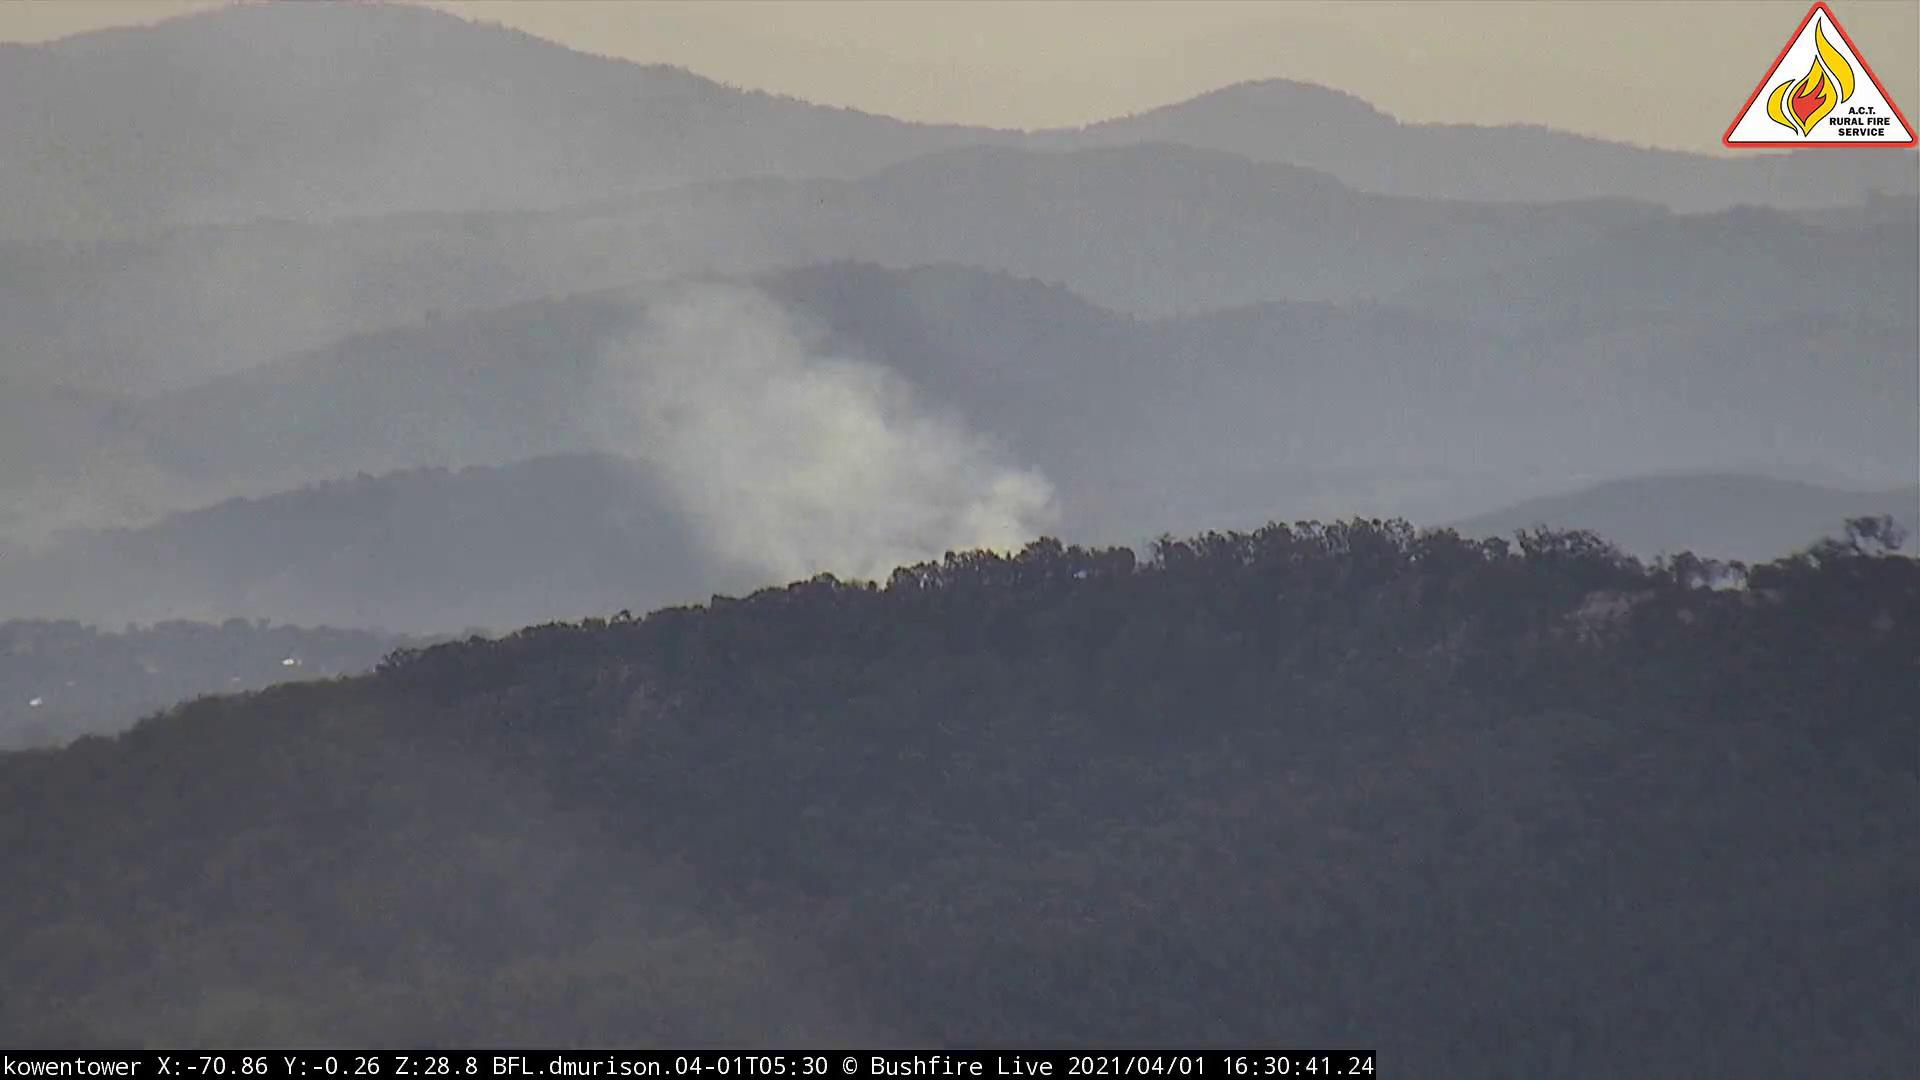Smoke: (535, 272, 1129, 636)
